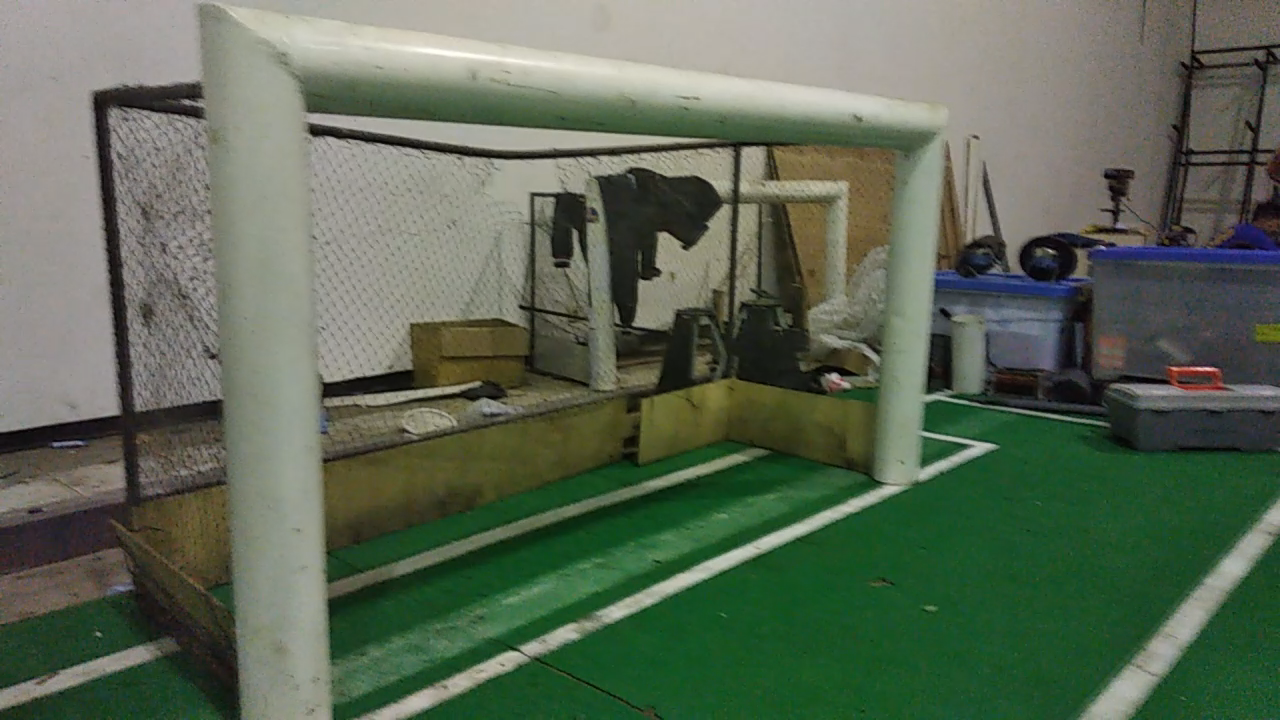gawang: (183, 3, 965, 719)
